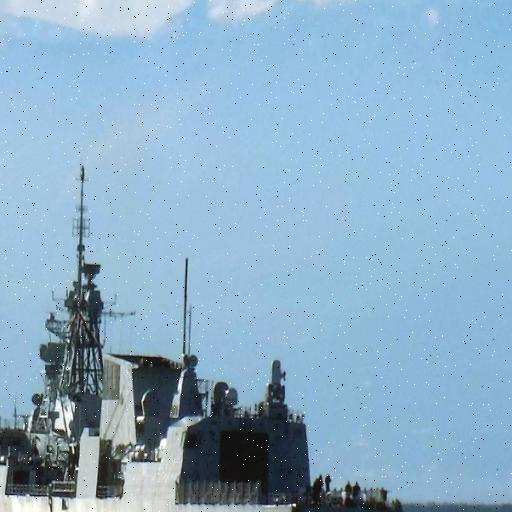Fragata: (1, 160, 406, 512)
